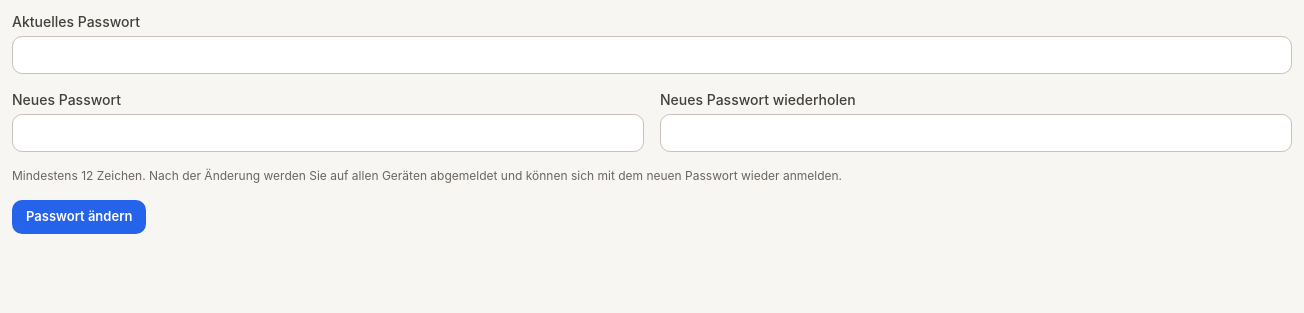
Test: staff user profile UI › meldet nach erfolgreicher Änderung überall ab
The width and height of the screenshot is (1304, 313).
Type "alt-geheim-123" into the password field labelled "Aktuelles Passwort".
click(652, 55); type("alt-geheim-123")  # box [12,36,1292,74]
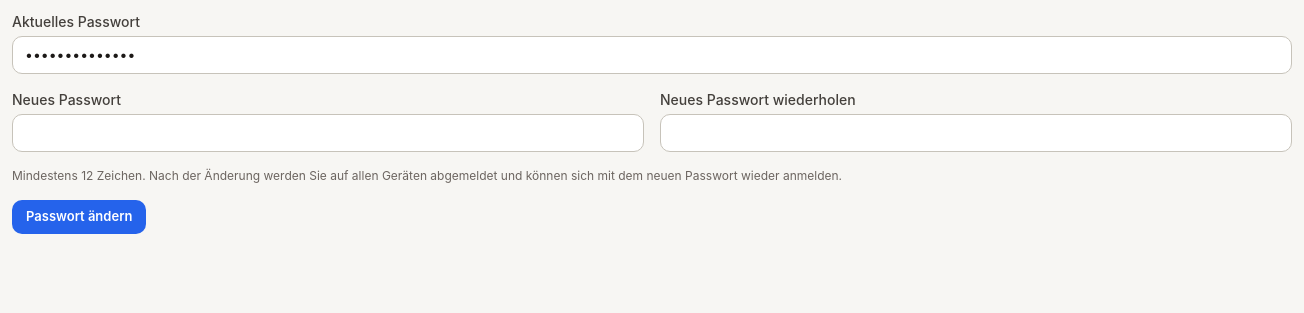
Type "neu-geheim-12345" into the password field labelled "Neues Passwort".
click(328, 133); type("neu-geheim-12345")  # box [12,114,644,152]
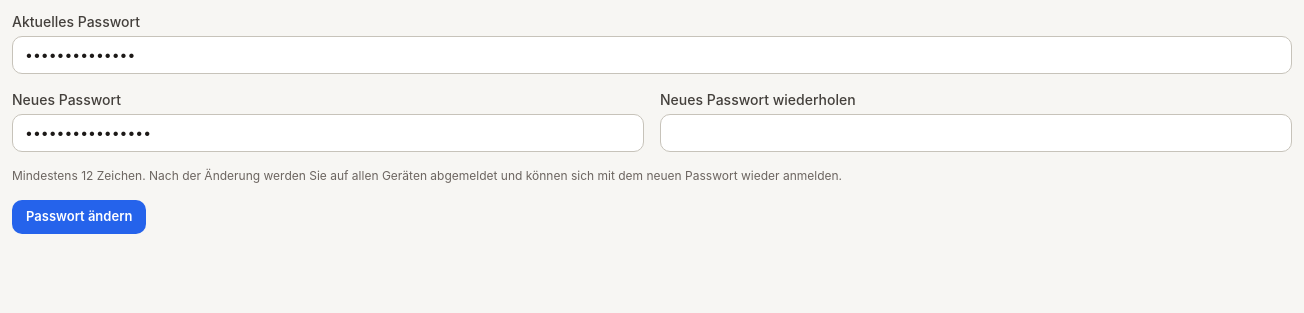
Type "neu-geheim-12345" into the password field labelled "Neues Passwort wiederholen".
click(976, 133); type("neu-geheim-12345")  # box [660,114,1292,152]
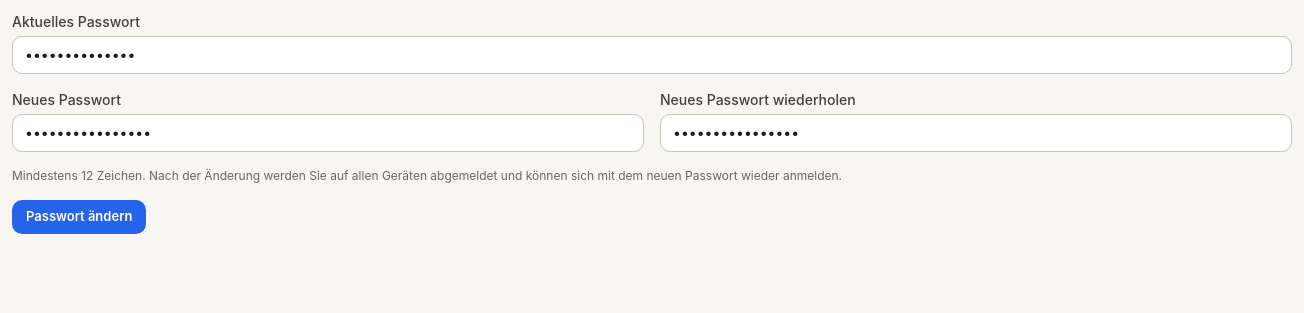
Submit the form
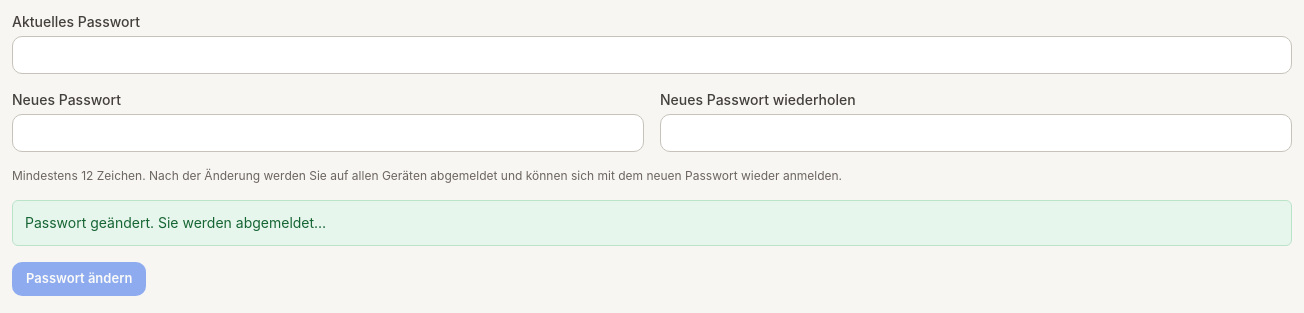
Check: the text "Passwort geändert. Sie werden abgemeldet…" is shown, box [12,200,1292,246]
